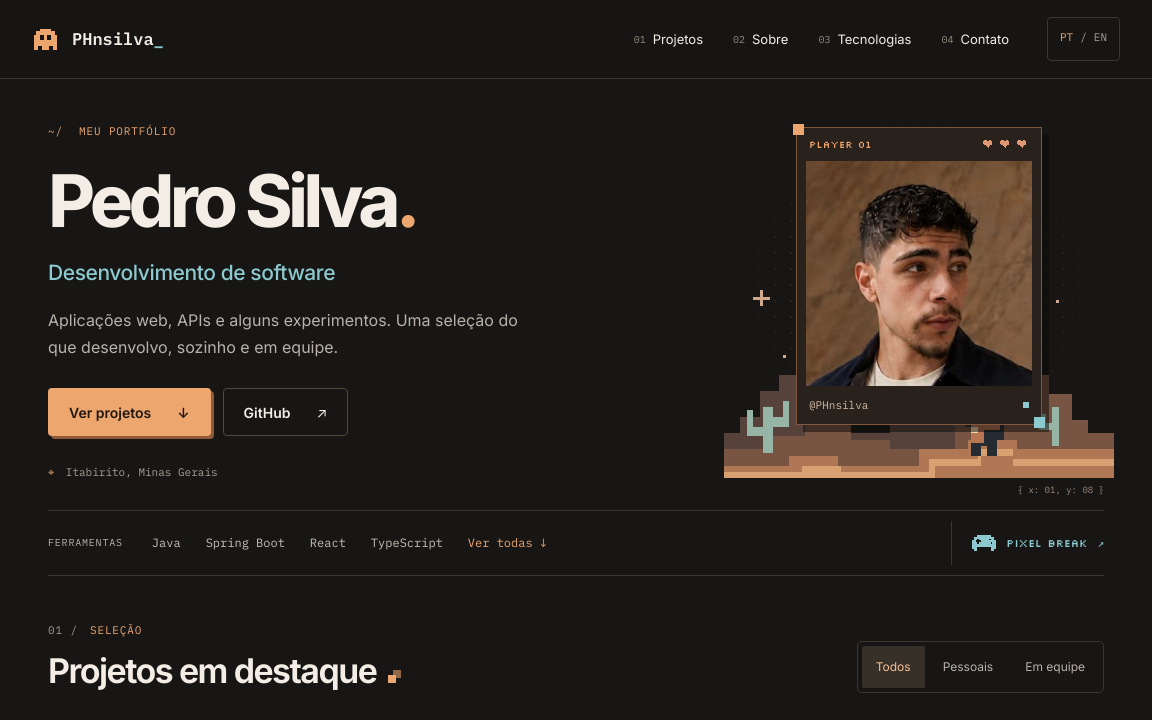
Portfolio visitor journeys › keeps the game optional, allows closing and can reopen cleanly
What coordinates should you click on to do the following:
click the button "Pixel break ↗"
I would click on:
 (1028, 543)
Its box is 951,521 -> 1104,565.
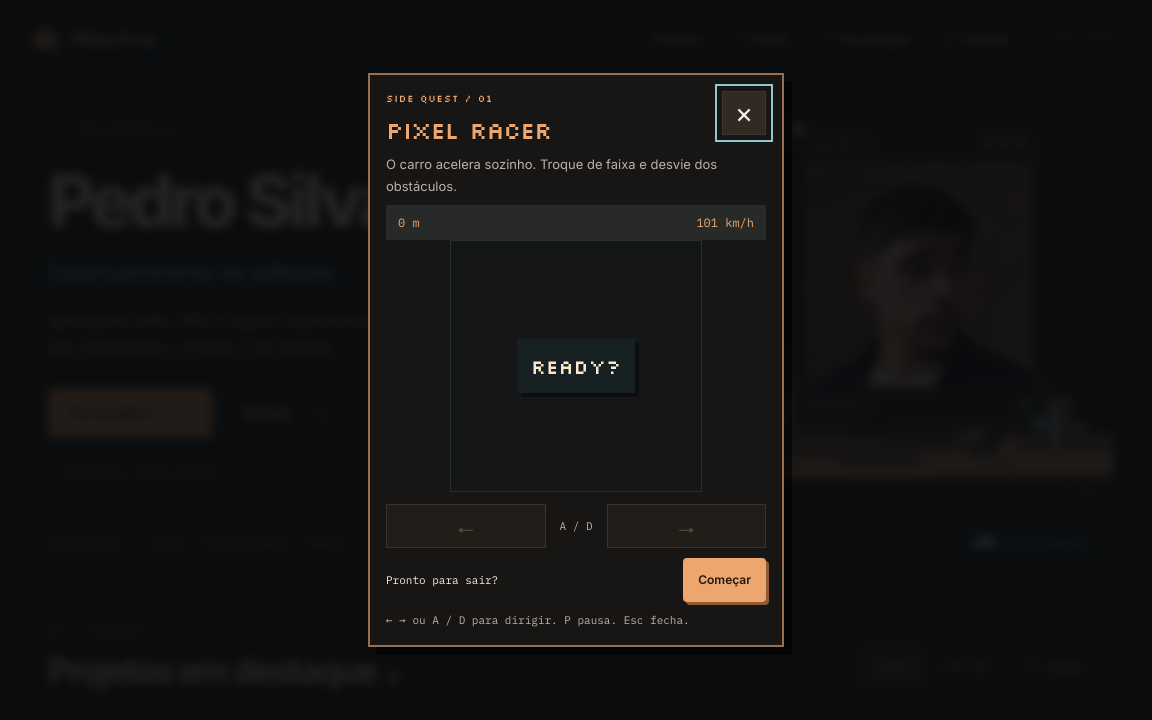
Check: the heading "Pixel racer" is shown, box 386,114 -> 551,145
What coordinates should you click on to do the following:
click the button "Começar"
I would click on:
 (725, 580)
Its box is 683,558 -> 766,602.
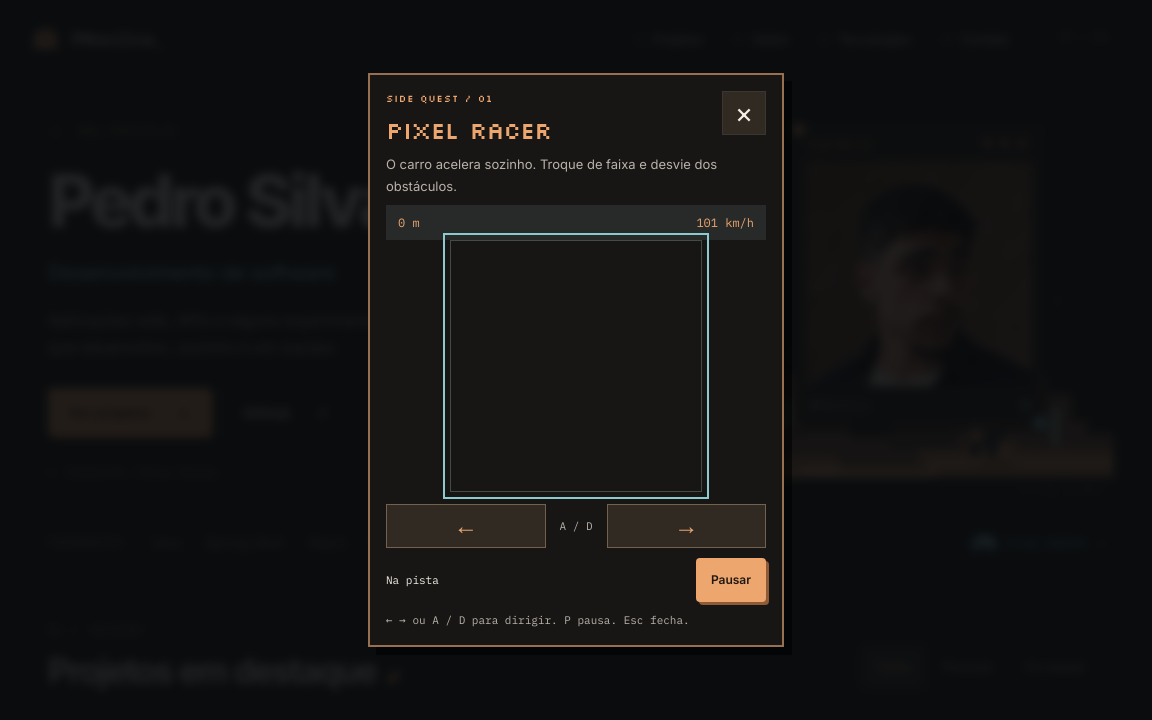
Check: the button named "Virar à esquerda" is enabled, box 386,504 -> 546,548
What coordinates should you click on to do the following:
click the button "Pausar"
I would click on:
 (731, 580)
Its box is 696,558 -> 766,602.
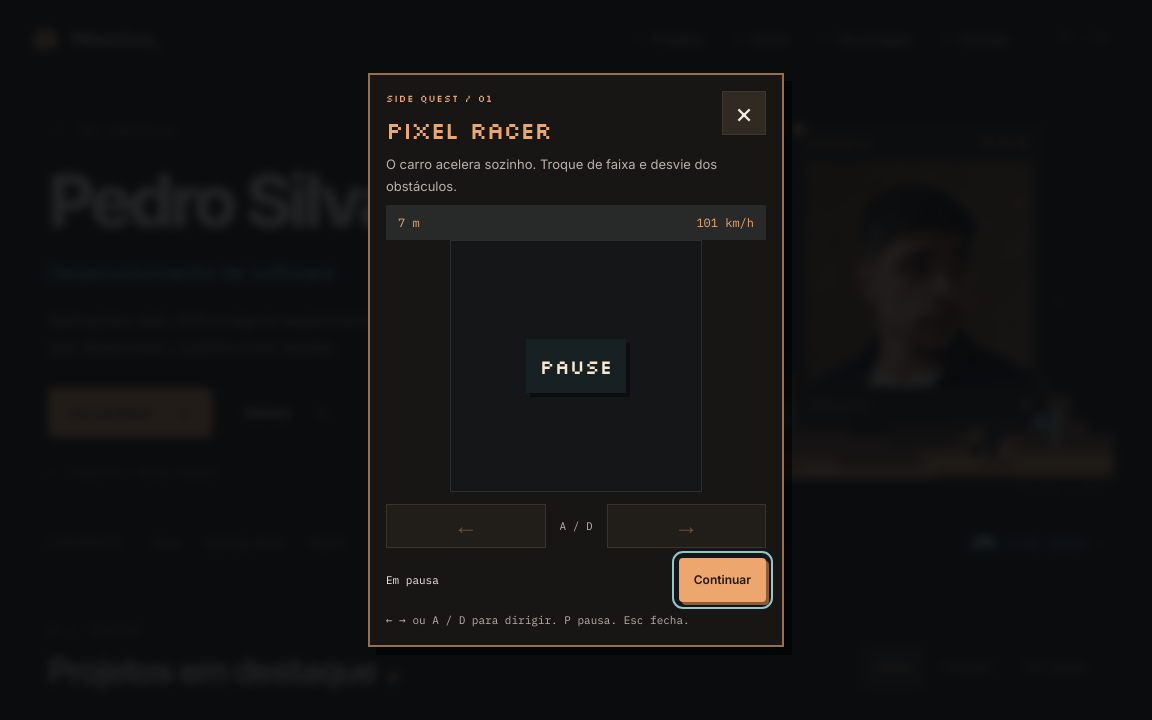
Check: the text "Em pausa" is shown, box 386,573 -> 439,587
What coordinates should you click on to do the following:
click the button "Continuar"
I would click on:
 (722, 580)
Its box is 679,558 -> 766,602.
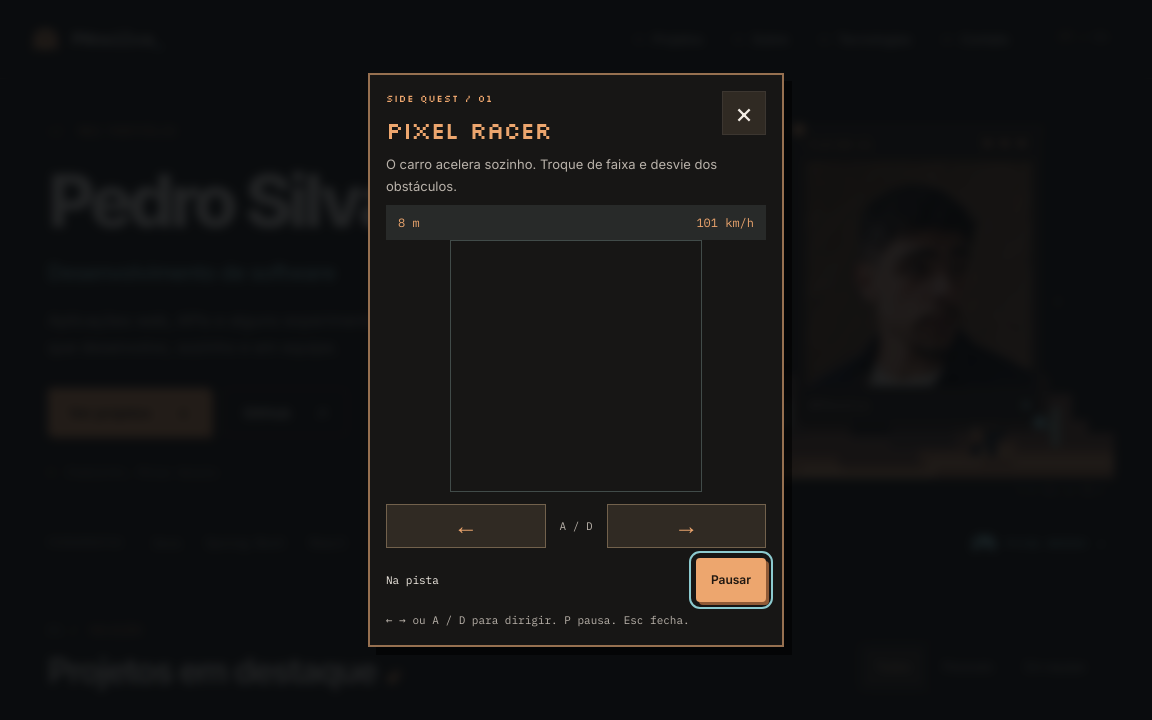
Check: the text "Na pista" is shown, box 386,573 -> 439,587
What coordinates should you click on to do the following:
click the button named "Fechar jogo"
I would click on:
 (744, 113)
Its box is 722,91 -> 766,135.
(page scrolled)
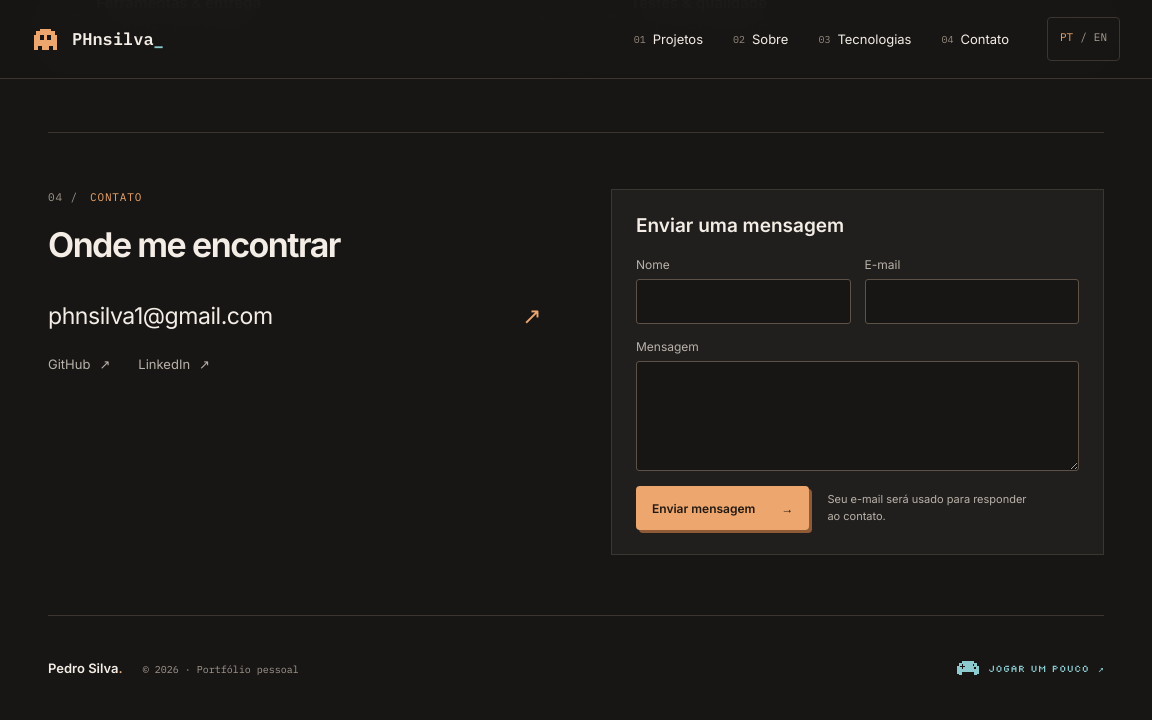
Check: the dialog is gone
What coordinates should you click on to do the following:
click the button "Jogar um pouco ↗"
I would click on:
 (1030, 668)
Its box is 957,646 -> 1104,690.
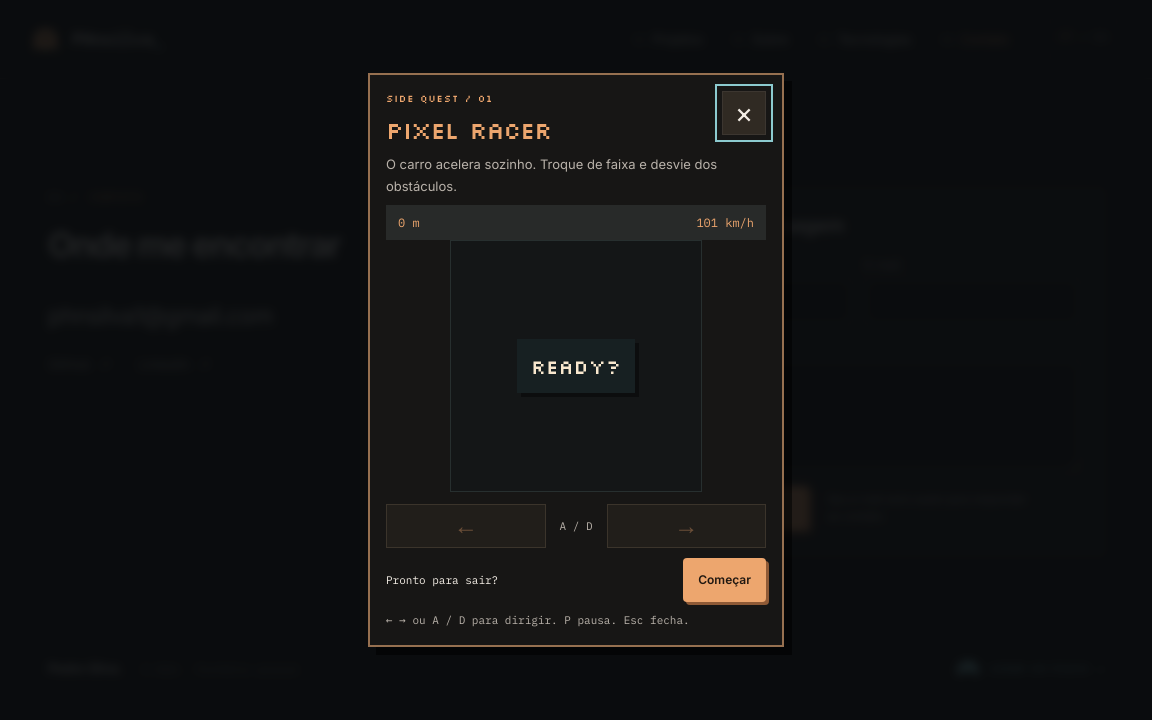
Check: the number of dialogs is 1, box 368,73 -> 784,647
